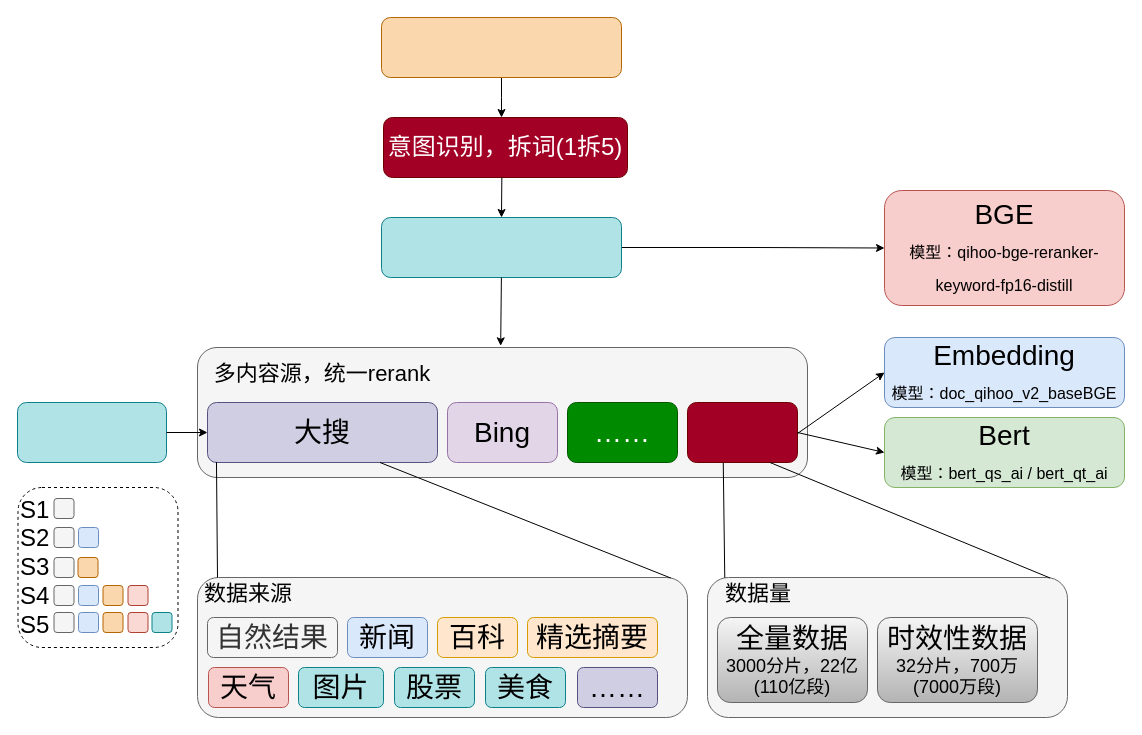
This 1142x735 diagram has some shape labels left out. Here are the shapes that lost their labels. From the top down, the centre of each, then its label:
At (501,47): "AI搜索Web端".
At (501,247): "AI Searcher ( 原Query +5拆词 并行调用 )".
At (91,432): "Saas接口".
At (742,432): "精品库".
